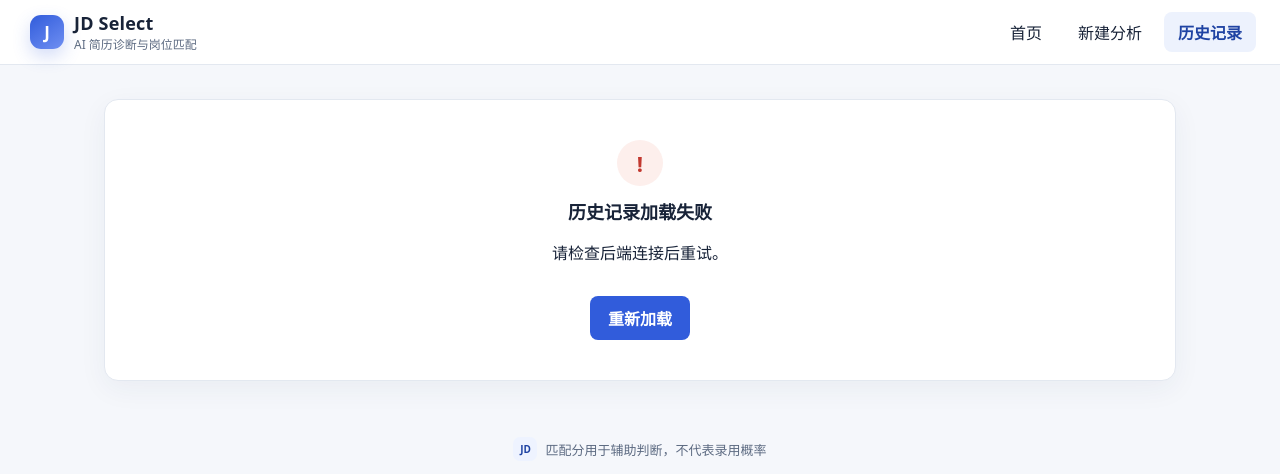
Test: B independent route and recovery regression checks › actually refetches history when retry is clicked
Click the button "重新加载" at (640, 318), box [590,296,690,340]
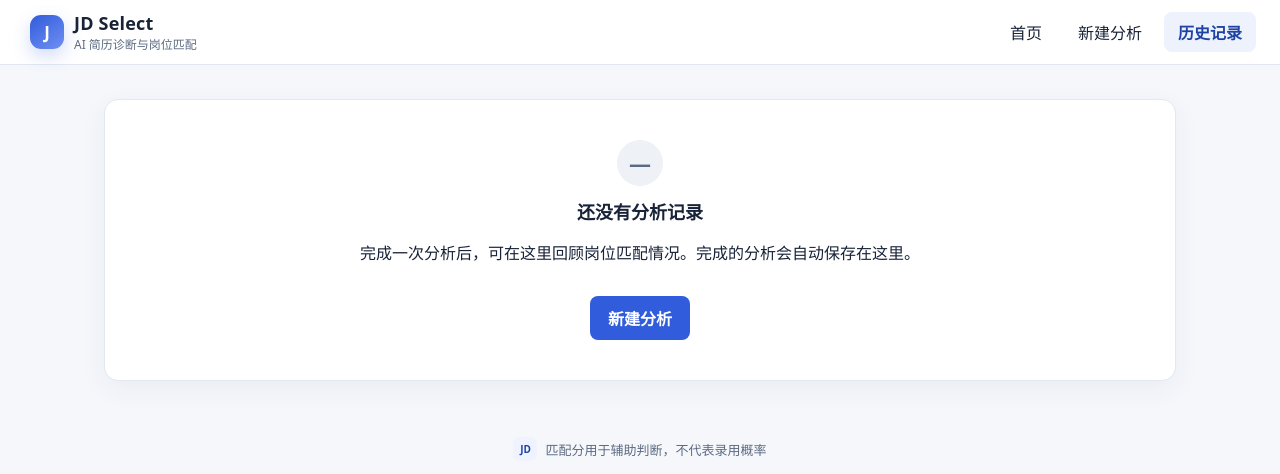
Now the heading "还没有分析记录" is shown, box [577,200,703,224]
